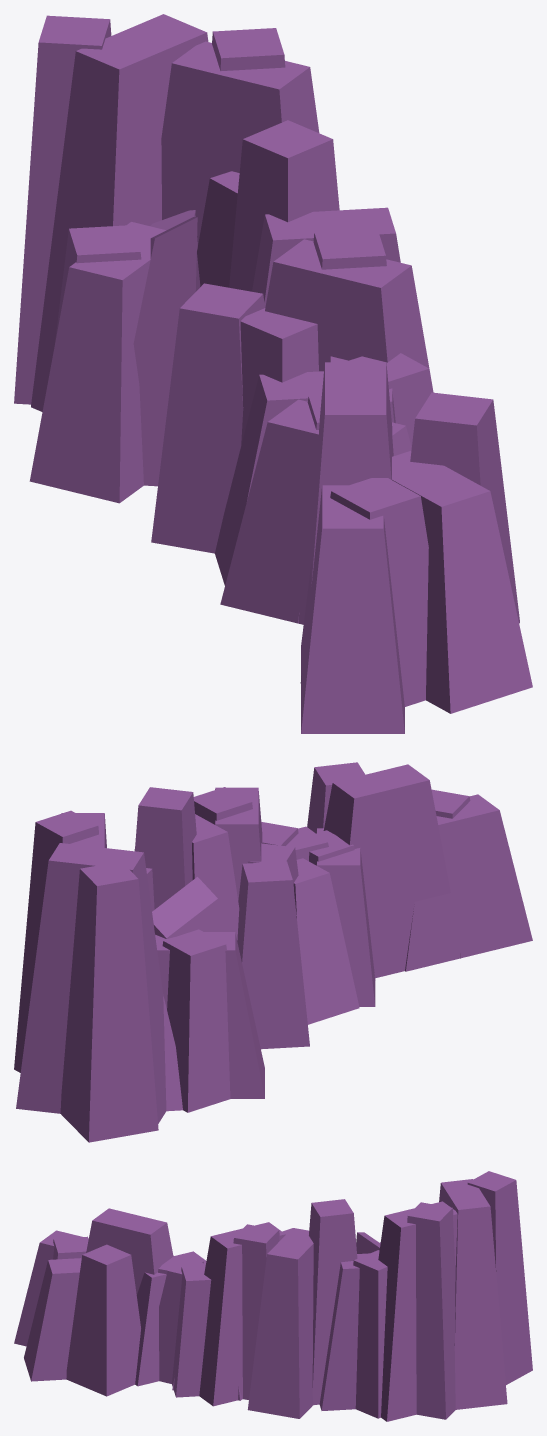
File: stonne.fbx
3 renders of one model, top to bottom at view 1: azimuth 30°, elevation 25°; view 2: azimuth 150°, elevation 25°; view 3: azimuth 270°, elevation 25°, orthographic. The views are drawn at different scales.
Visible parts, largest first — view 1: pCube330, pCube311, pCube309, pCube307, pCube314, pCube332, pCube326, pCube320, pCube329, pCube317, pCube321, pCube306 (+10 smaller); view 2: pCube329, pCube321, pCube330, pCube307, pCube314, pCube312, pCube324, pCube317, pCube311, pCube331, pCube326, pCube318 (+11 smaller); view 3: pCube330, pCube318, pCube310, pCube331, pCube332, pCube320, pCube329, pCube317, pCube309, pCube328, pCube327, pCube316 (+7 smaller).
Boxes of the visible parts, bbox=[...] form: pCube330: bbox=[31, 14, 208, 411]; pCube311: bbox=[29, 222, 165, 503]; pCube309: bbox=[392, 451, 532, 713]; pCube307: bbox=[301, 485, 404, 733]; pCube314: bbox=[151, 283, 264, 553]; pCube332: bbox=[161, 41, 319, 246]; pCube326: bbox=[220, 399, 411, 624]; pCube320: bbox=[265, 239, 433, 392]; pCube329: bbox=[14, 15, 111, 404]; pCube317: bbox=[229, 120, 339, 291]; pCube321: bbox=[304, 362, 393, 620]; pCube306: bbox=[133, 217, 200, 486]; pCube329: bbox=[60, 861, 158, 1142]; pCube321: bbox=[323, 764, 450, 978]; pCube330: bbox=[16, 843, 166, 1123]; pCube307: bbox=[405, 794, 532, 971]; pCube314: bbox=[237, 861, 309, 1049]; pCube312: bbox=[162, 929, 230, 1112]; pCube324: bbox=[293, 858, 359, 1024]; pCube317: bbox=[135, 787, 196, 909]; pCube311: bbox=[155, 932, 264, 1098]; pCube331: bbox=[14, 810, 98, 1072]; pCube326: bbox=[316, 828, 375, 1006]; pCube318: bbox=[134, 814, 239, 940]; pCube330: bbox=[439, 1179, 507, 1409]; pCube318: bbox=[247, 1228, 313, 1418]; pCube310: bbox=[66, 1244, 140, 1396]; pCube331: bbox=[407, 1202, 455, 1419]; pCube332: bbox=[378, 1201, 457, 1421]; pCube320: bbox=[199, 1222, 285, 1406]; pCube329: bbox=[467, 1171, 532, 1384]; pCube317: bbox=[309, 1199, 357, 1405]; pCube309: bbox=[24, 1258, 81, 1381]; pCube328: bbox=[353, 1250, 387, 1418]; pCube327: bbox=[319, 1253, 369, 1410]; pCube316: bbox=[172, 1265, 211, 1397].
Size of the model in its own units: 49.27 by 44.51 by 109.
